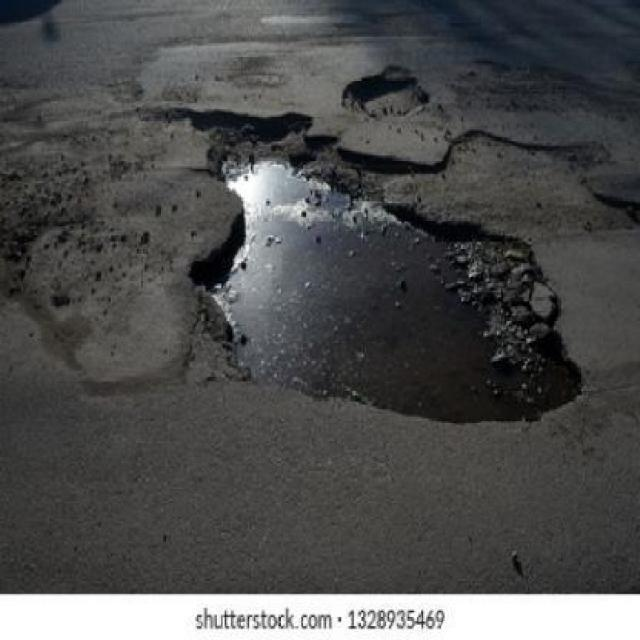pothole: (163, 108, 589, 428), (339, 64, 430, 121)
